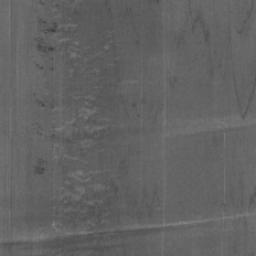Crease: (0, 216, 246, 245), (165, 122, 256, 138)
